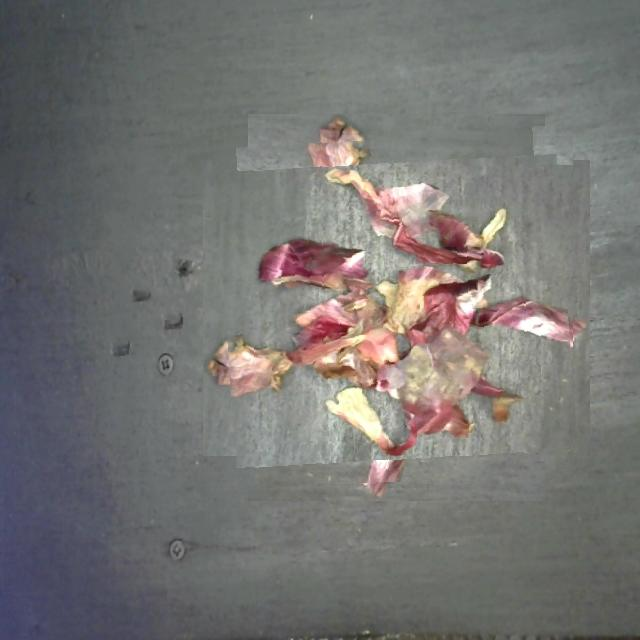biodegradable: (220, 131, 573, 484)
